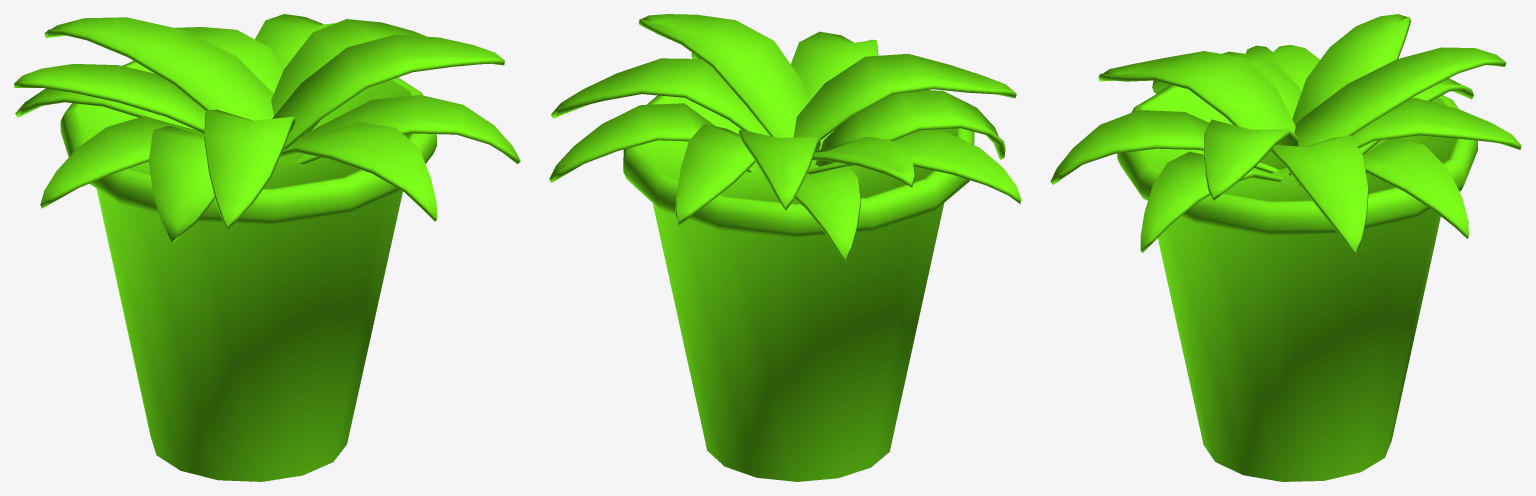
The model's file is Plant.fbx.
3 views of the same model, side by side, from view 1: azimuth 30°, elevation 25°; view 2: azimuth 150°, elevation 25°; view 3: azimuth 270°, elevation 25° (orthographic). The views are drawn at different scales.
Visible parts, largest first — view 1: Plane.035; view 2: Plane.035; view 3: Plane.035.
Part boxes in pixels (x1,y1,x2,y2): Plane.035: (14,14,520,481); Plane.035: (549,14,1021,481); Plane.035: (1050,14,1521,481).
Size of the model in its own units: 0.8768 by 0.708 by 0.8272.
